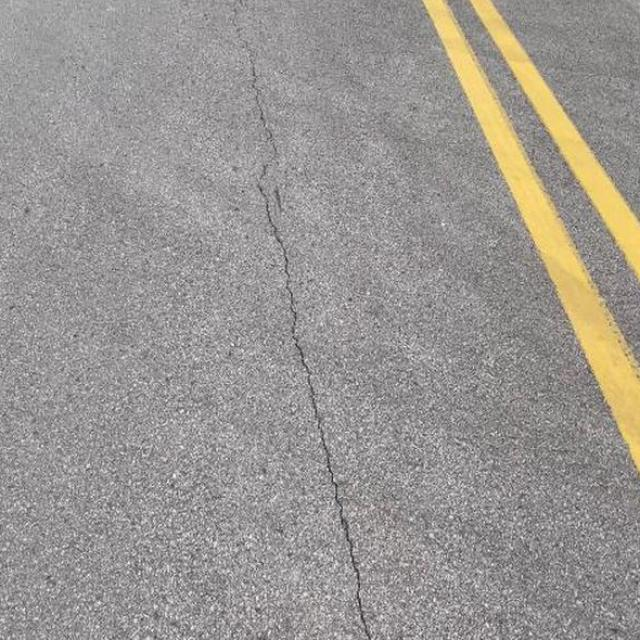Memanjang: (214, 2, 390, 640)
